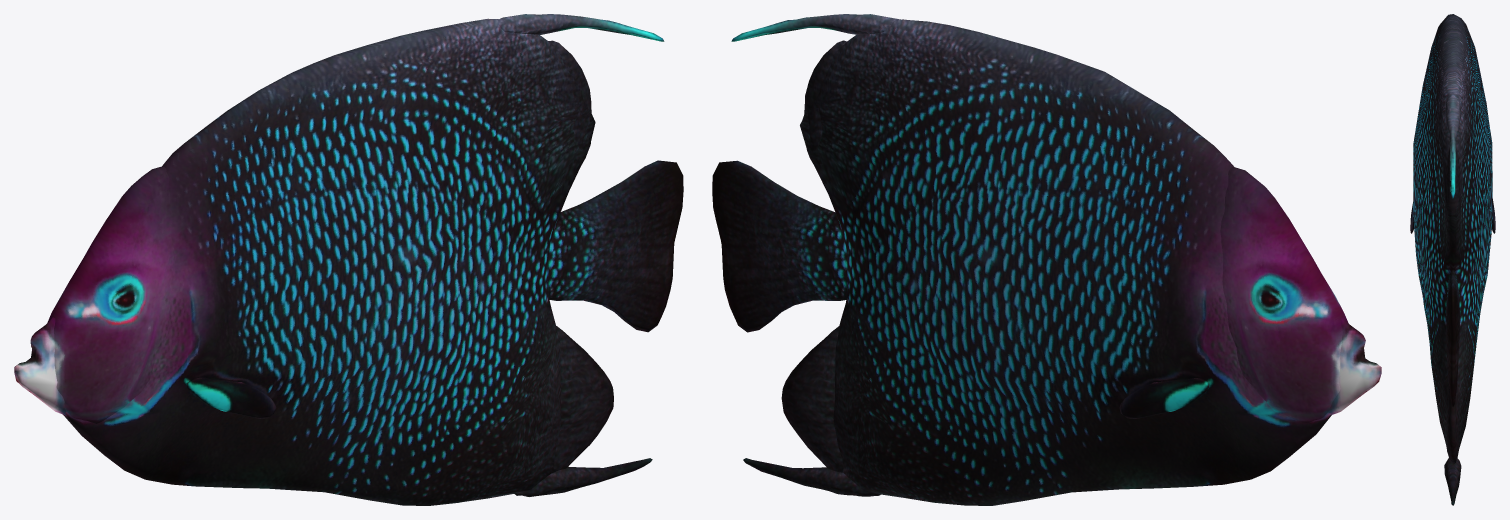
File: coralfish.glb
The picture shows the model from 3 angles, left to right: view 1: azimuth 30°, elevation 25°; view 2: azimuth 150°, elevation 25°; view 3: azimuth 270°, elevation 25°; orthographic projection. The views are drawn at different scales.
Parts seen in each view (by area): view 1: model; view 2: model; view 3: model.
Part boxes in pixels (left/top/right/bottom): model: left=14, top=14, right=683, bottom=505; model: left=712, top=14, right=1381, bottom=505; model: left=1410, top=14, right=1495, bottom=505.
Bounding box in the file's own units: 6.65 × 4.7 × 0.9854.
1 material, 1 textured.
